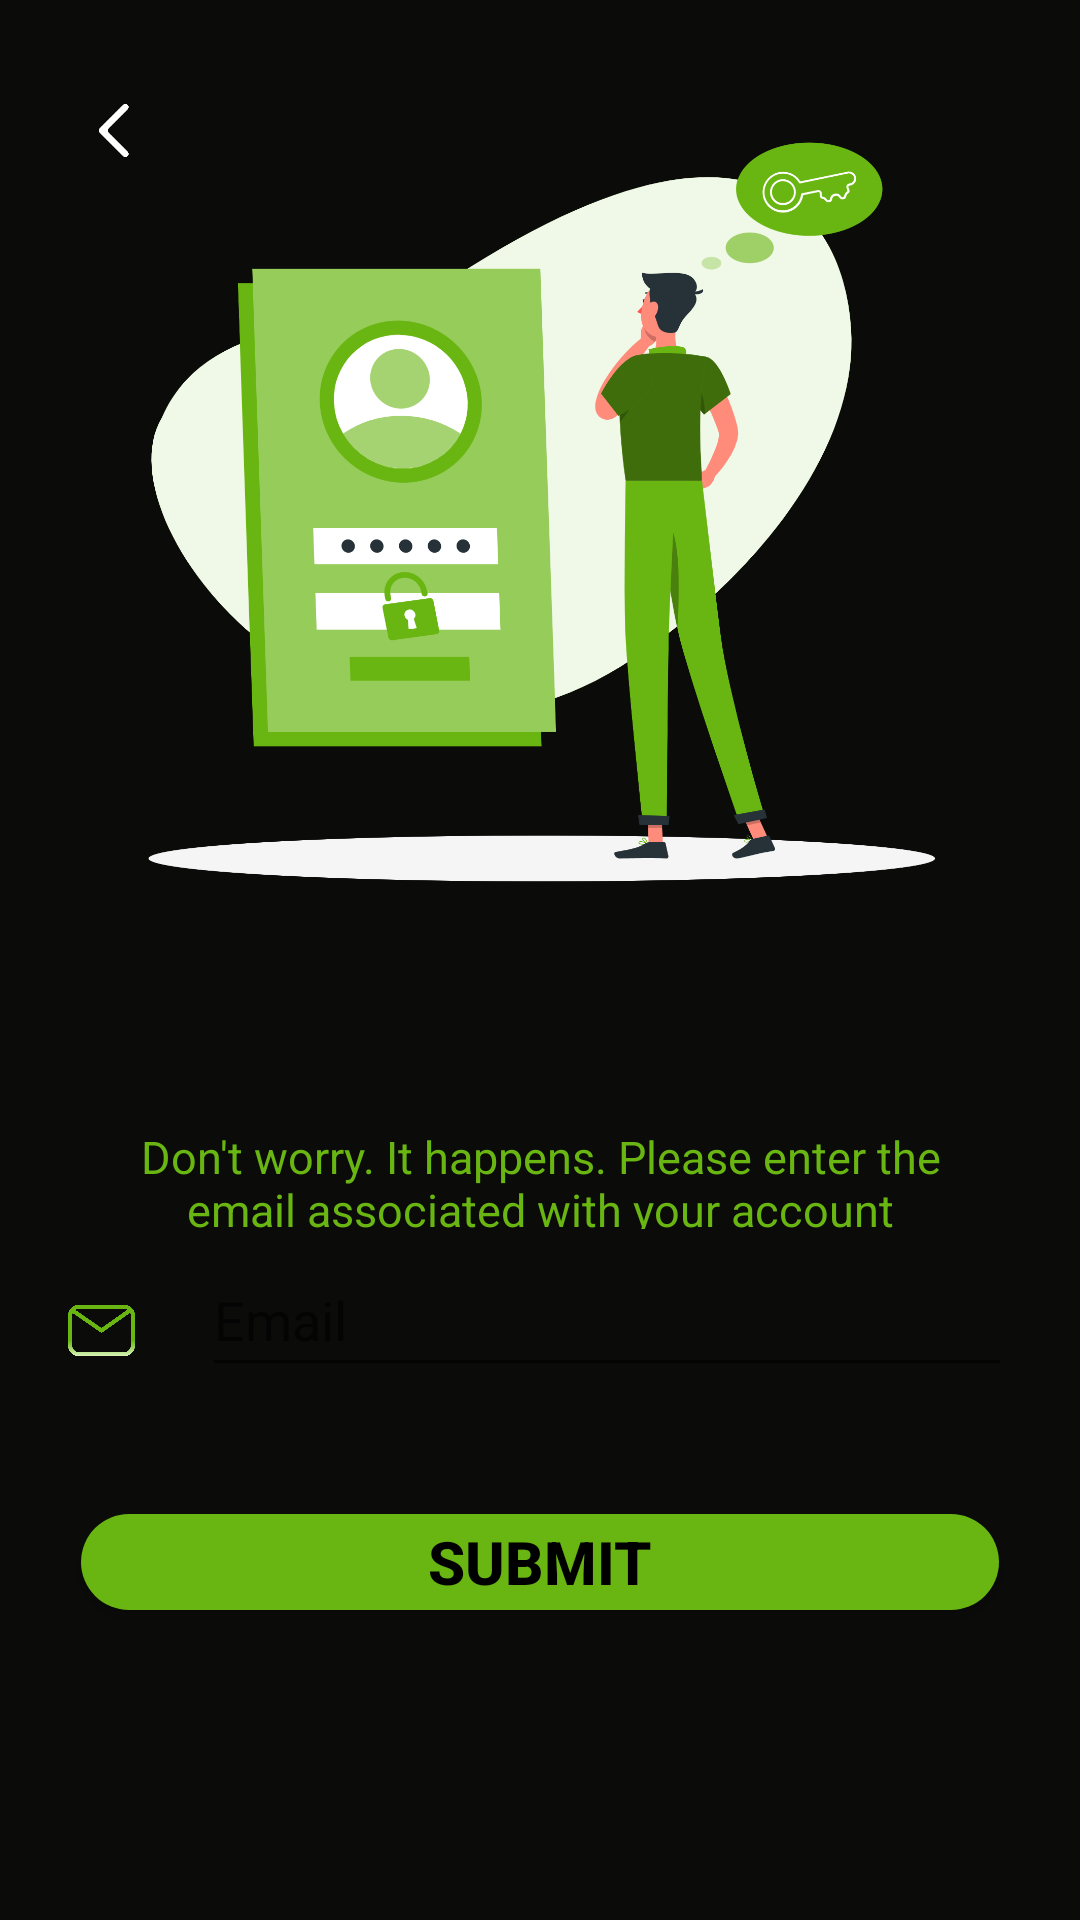

Icon click points for this 1080 x 1920 phone screenshot, format (x,y):
nhi back: (114,130)
